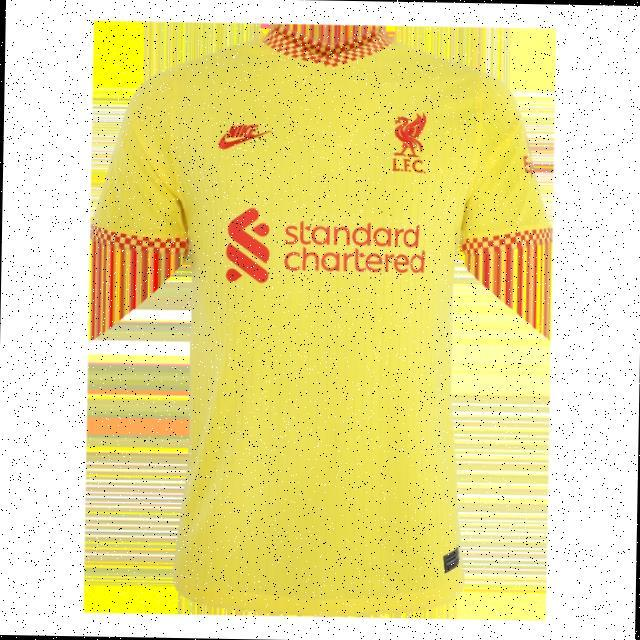Nike: (219, 122, 271, 148)
Standard Chartered: (224, 207, 427, 287)
